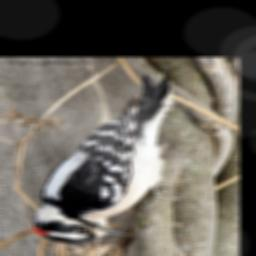Woodpecker: (32, 74, 178, 244)
